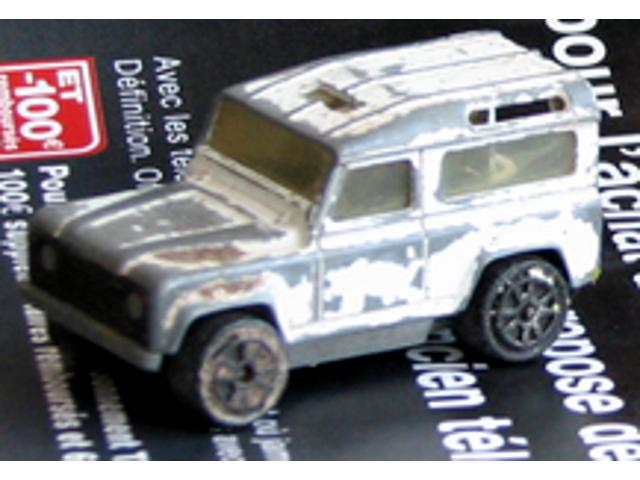toy-car: (16, 26, 606, 432)
